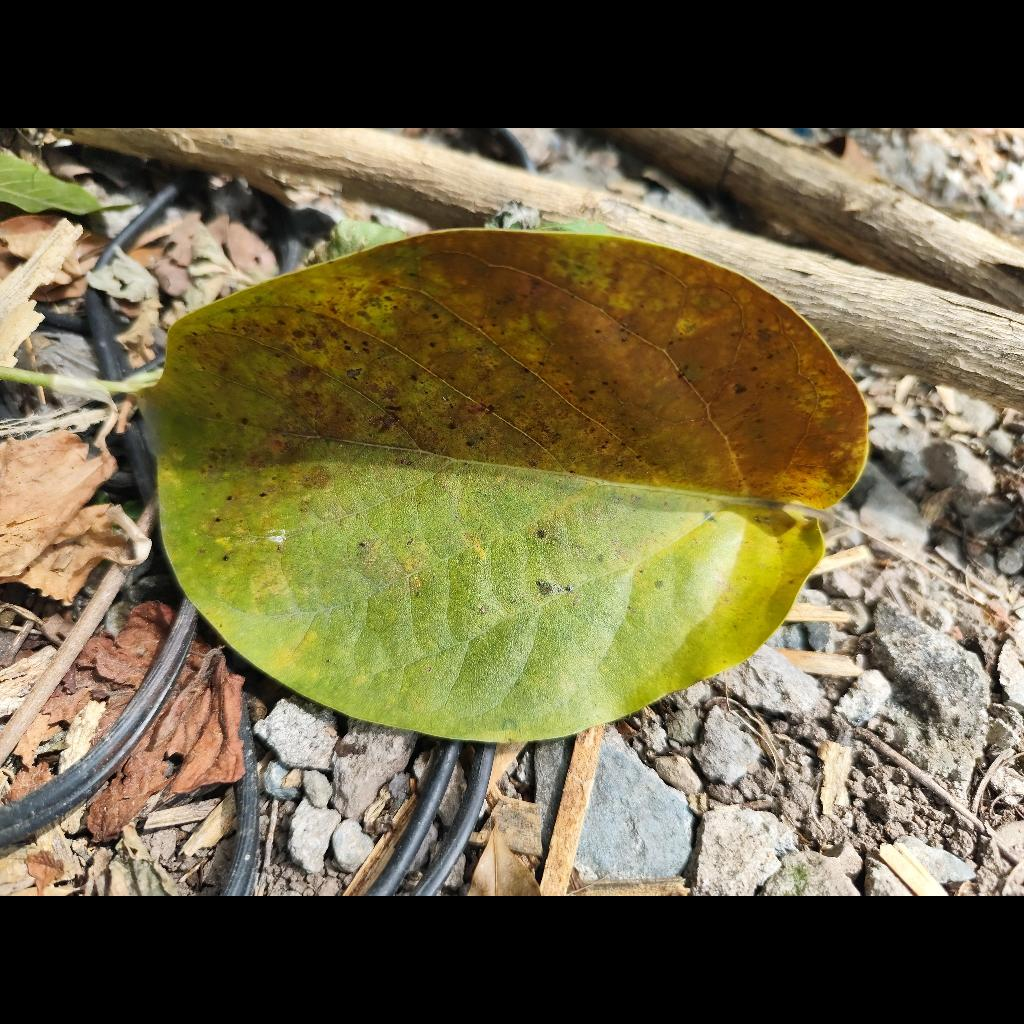nutrient_deficiency: (144, 229, 866, 741)
